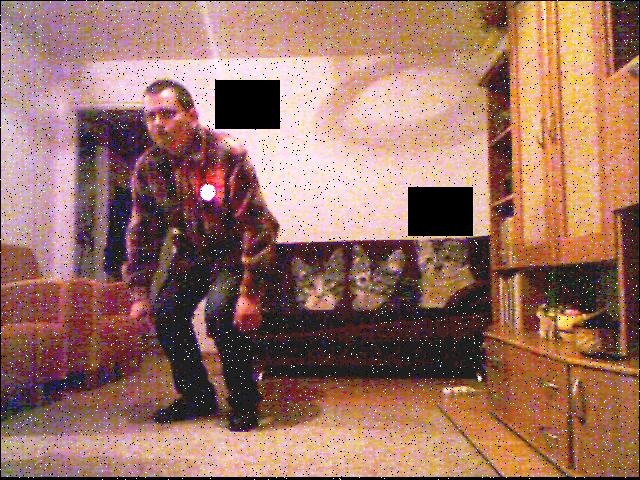bending: (106, 60, 292, 439)
